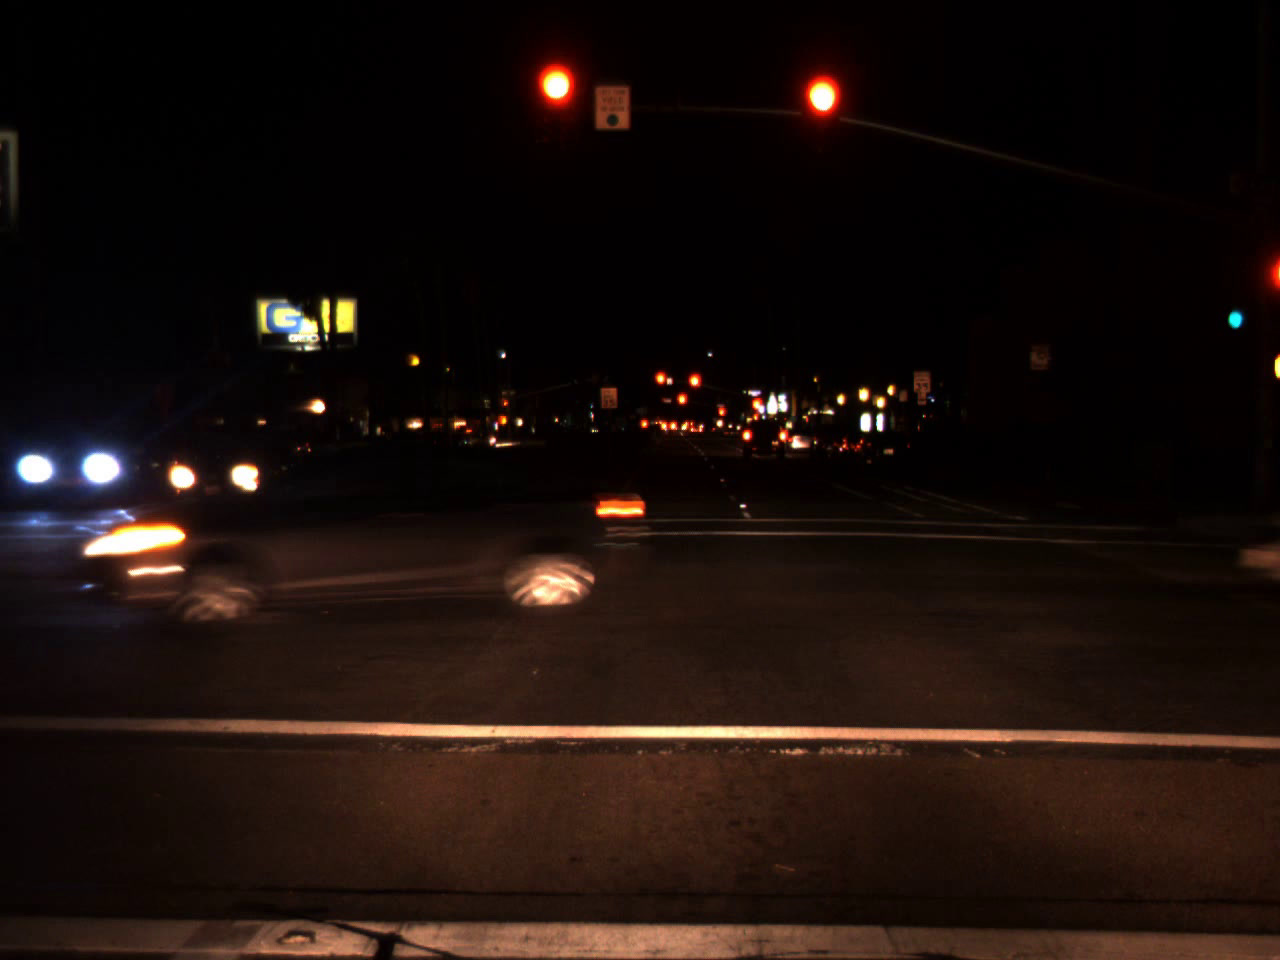stop: (537, 66, 577, 144), (802, 75, 841, 153), (686, 371, 702, 403), (653, 370, 666, 399), (675, 391, 688, 418), (716, 403, 728, 430), (752, 399, 761, 417), (502, 400, 508, 410)
